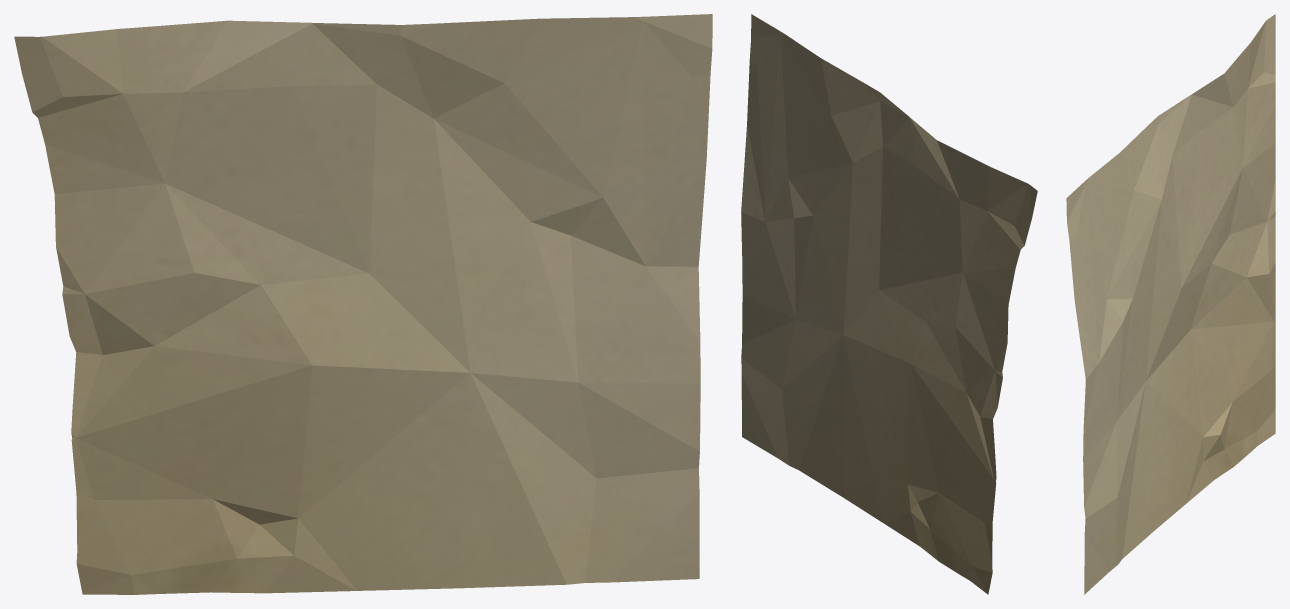
The picture shows the model from 3 angles, left to right: view 1: azimuth 30°, elevation 25°; view 2: azimuth 150°, elevation 25°; view 3: azimuth 270°, elevation 25°; orthographic projection. The views are drawn at different scales.
Size of the model in its own units: 0.8344 by 0.8374 by 0.4002.
Materials: 3 (3 with a texture image).
